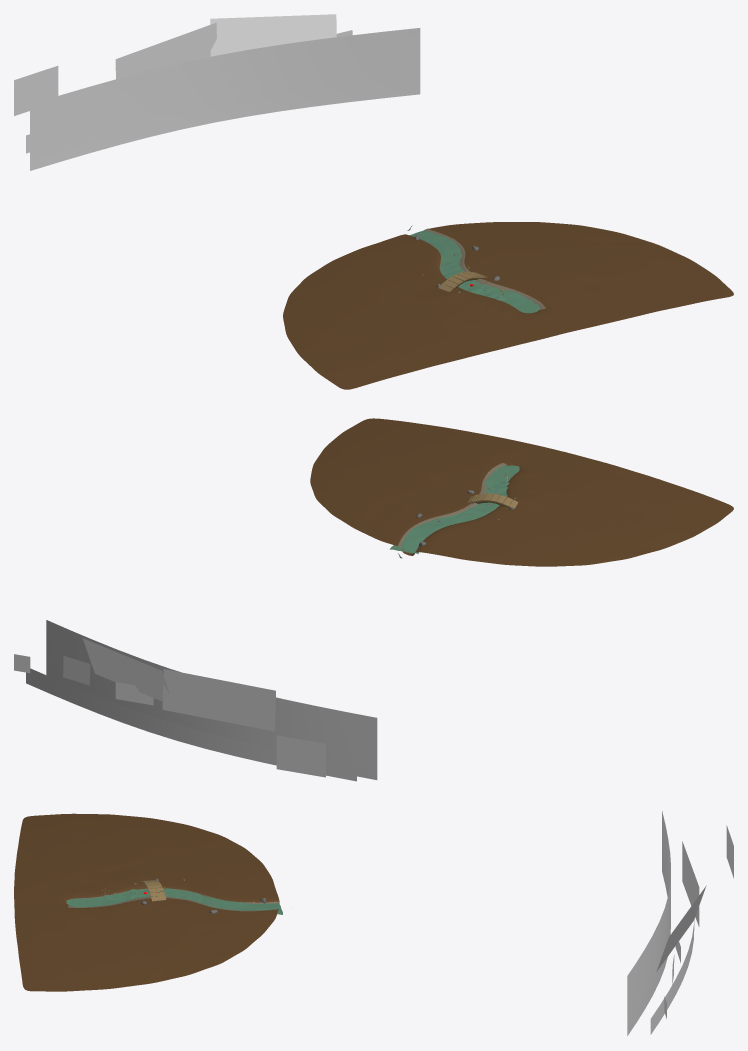
Rendered from new-river.glb.
3 renders of one model, top to bottom at view 1: azimuth 30°, elevation 25°; view 2: azimuth 150°, elevation 25°; view 3: azimuth 270°, elevation 25°, orthographic. The views are drawn at different scales.
Visible parts, largest first — view 1: Chao, GrassHills, Nuvem-2, Nuvem-2.001, Chao.001, Nuvem-1, Plane.001; view 2: Chao, GrassHills, Hills, Nuvem-2.001, Nuvem-2, Nuvem-1, Chao.001, Plane.001, Nuvem-4; view 3: Chao, GrassHills, Chao.001, Hills, Nuvem-2, Nuvem-2.001, Plane.001.
Part boxes in pixels (x1=…): Chao: x1=283, y1=222, x2=733, y2=389; GrassHills: x1=30, y1=28, x2=420, y2=170; Nuvem-2: x1=210, y1=14, x2=336, y2=56; Nuvem-2.001: x1=115, y1=22, x2=216, y2=79; Chao.001: x1=410, y1=231, x2=540, y2=312; Nuvem-1: x1=14, y1=66, x2=58, y2=115; Plane.001: x1=414, y1=228, x2=537, y2=313; Chao: x1=310, y1=418, x2=733, y2=566; GrassHills: x1=46, y1=620, x2=377, y2=779; Hills: x1=26, y1=668, x2=356, y2=781; Nuvem-2.001: x1=162, y1=669, x2=275, y2=731; Nuvem-2: x1=82, y1=638, x2=169, y2=701; Nuvem-1: x1=276, y1=735, x2=325, y2=777; Chao.001: x1=398, y1=465, x2=519, y2=554; Plane.001: x1=390, y1=465, x2=519, y2=553; Nuvem-4: x1=63, y1=656, x2=90, y2=685; Chao: x1=14, y1=813, x2=279, y2=991; GrassHills: x1=627, y1=811, x2=670, y2=1035; Chao.001: x1=68, y1=888, x2=278, y2=910; Hills: x1=650, y1=920, x2=694, y2=1034; Nuvem-2: x1=656, y1=885, x2=706, y2=971; Nuvem-2.001: x1=682, y1=841, x2=699, y2=926; Plane.001: x1=66, y1=888, x2=282, y2=914.
Bounding box in the file's own units: 34.92 × 6.7 × 56.57.
